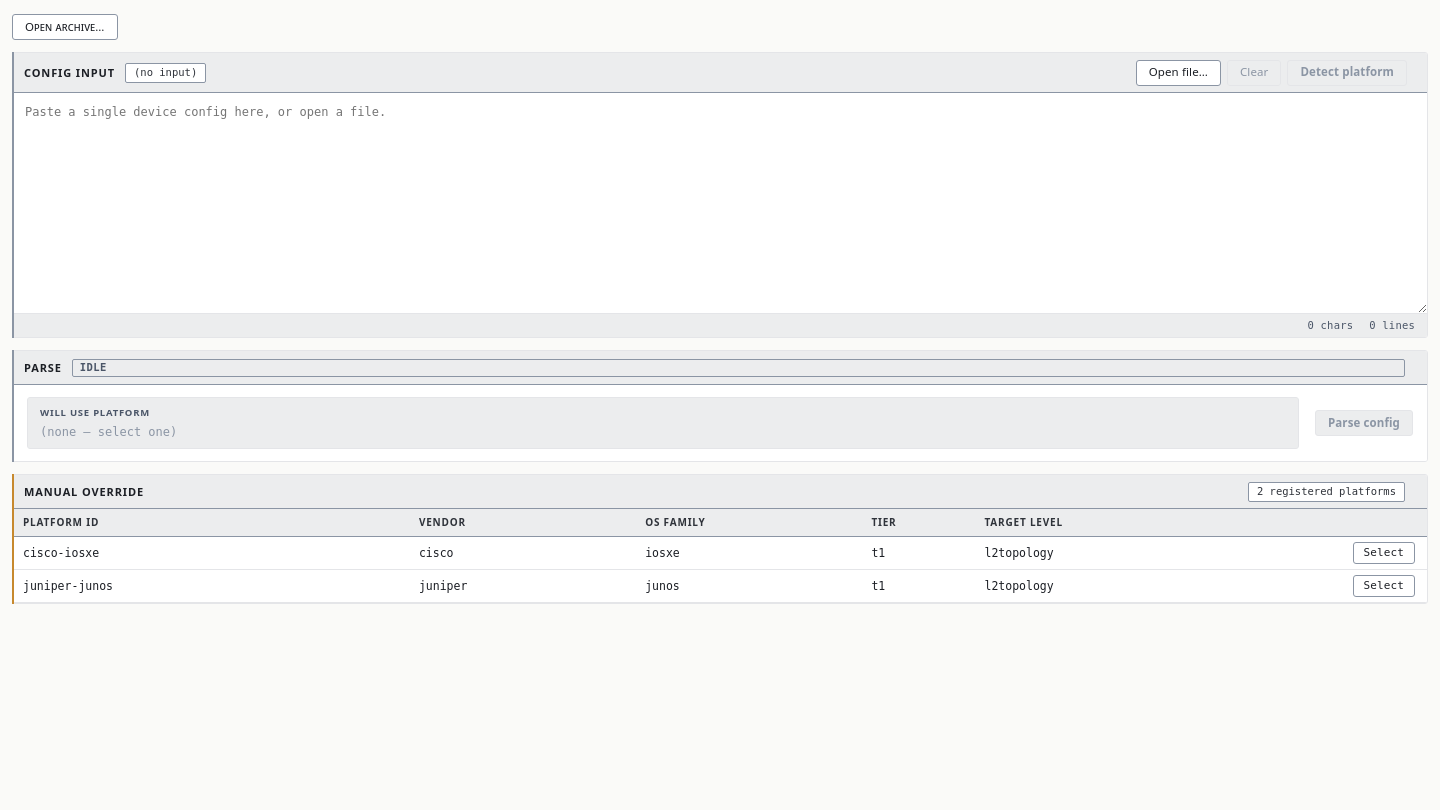
Test: IntakePanel — V1O-A batch flow › multi-slice paste shows BatchSummaryView with per-slice cards
Type "x" into the text box named "Config text" at (720, 203), box [13,93,1427,313]
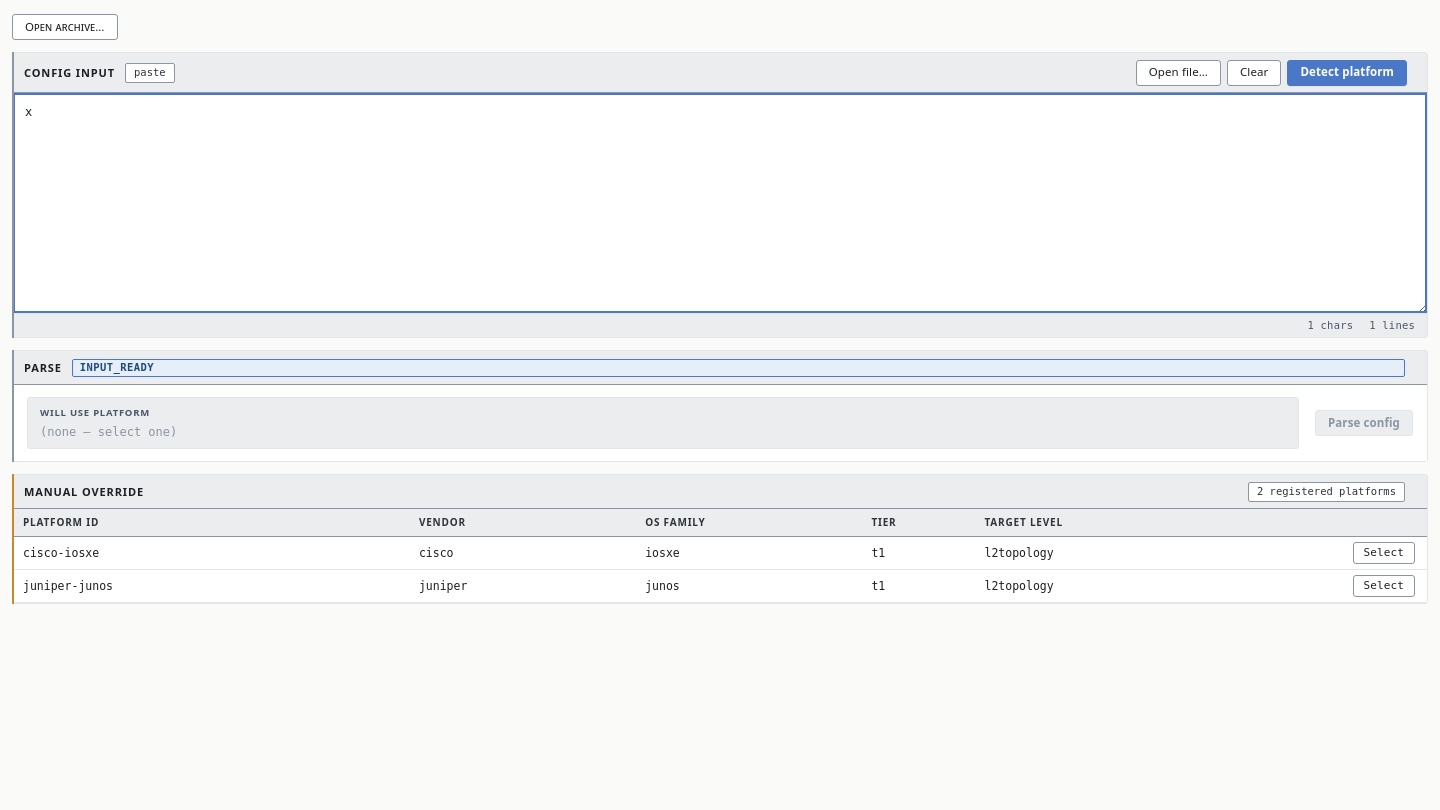
Click the button "Detect platform" at (1347, 72), box [1288,60,1407,86]
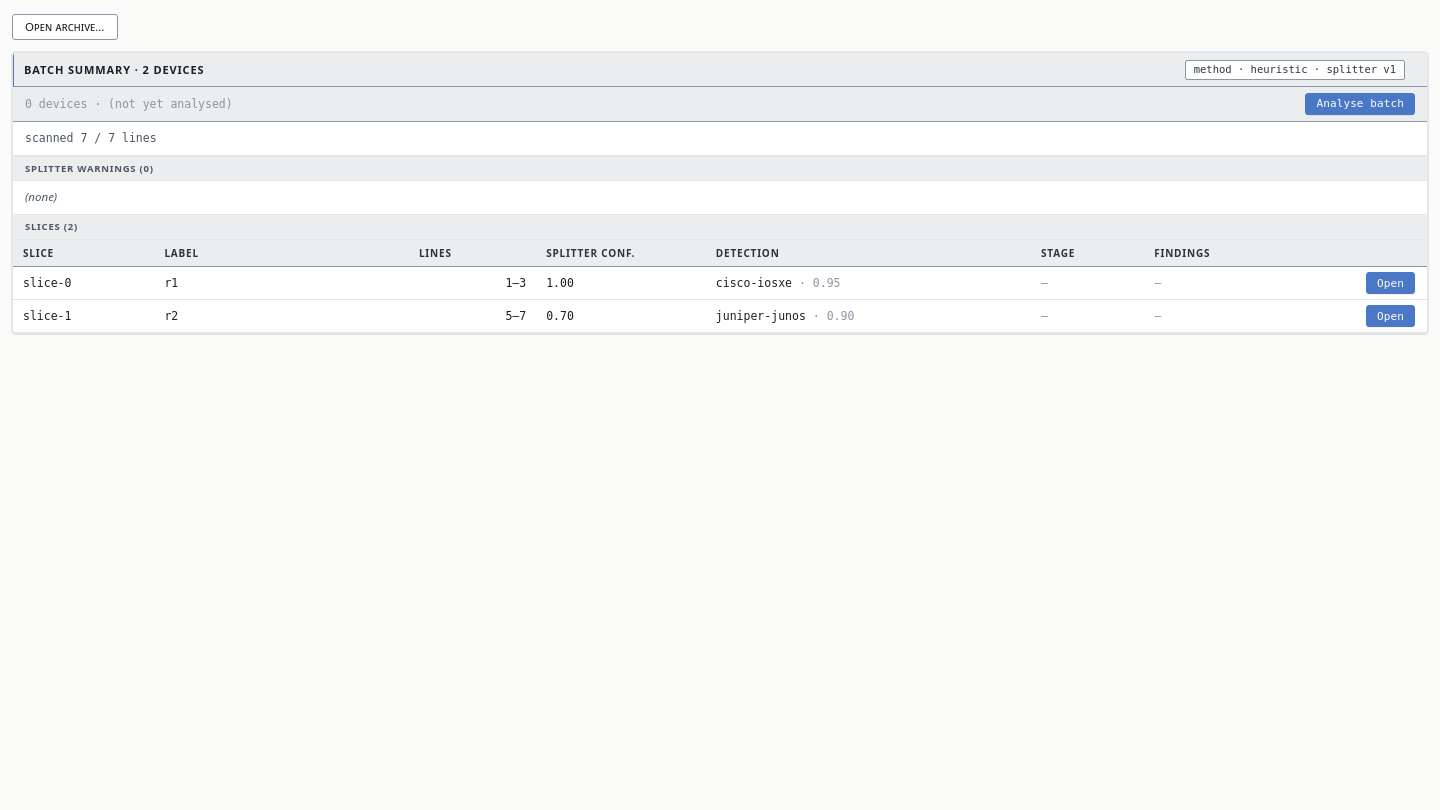
Check: the element labelled "BATCH SUMMARY" is shown, box [12,52,1428,334]
Check: the text "slice-0" is shown, box [13,267,154,300]
Check: the text "slice-1" is shown, box [13,300,154,333]
